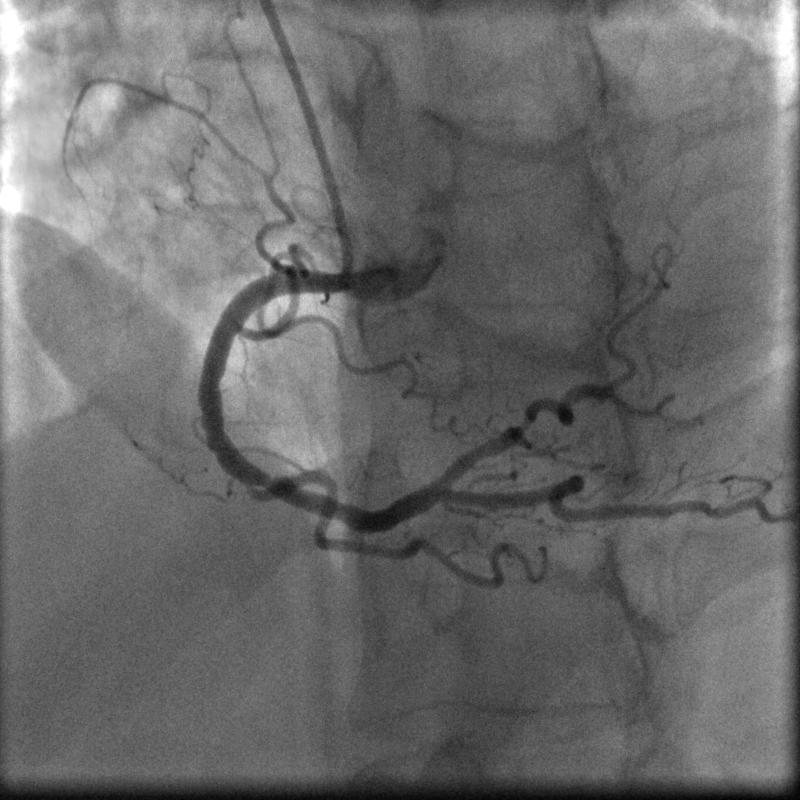Stenosis: (512, 401, 539, 442)
